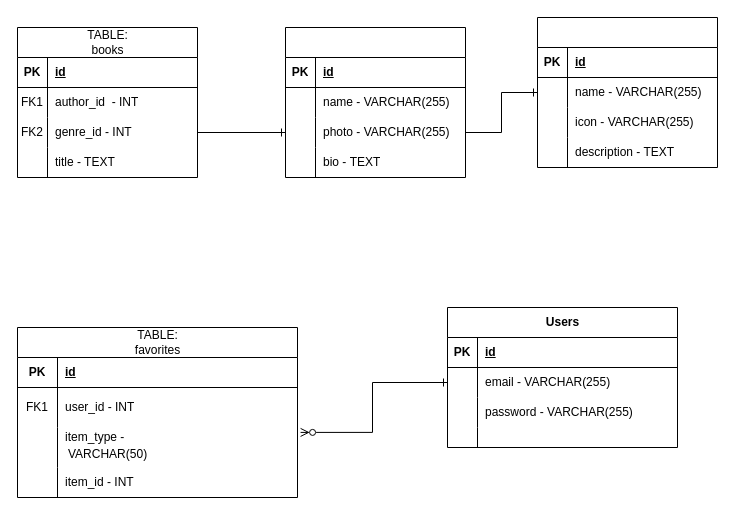
This 735x515 diagram has some shape labels left out. The box of each missing label's shape, as (x1, y1, x2, y2) in pixels:
TABLE: authors: (284, 26, 466, 178)
TABLE: genres: (536, 16, 718, 168)
